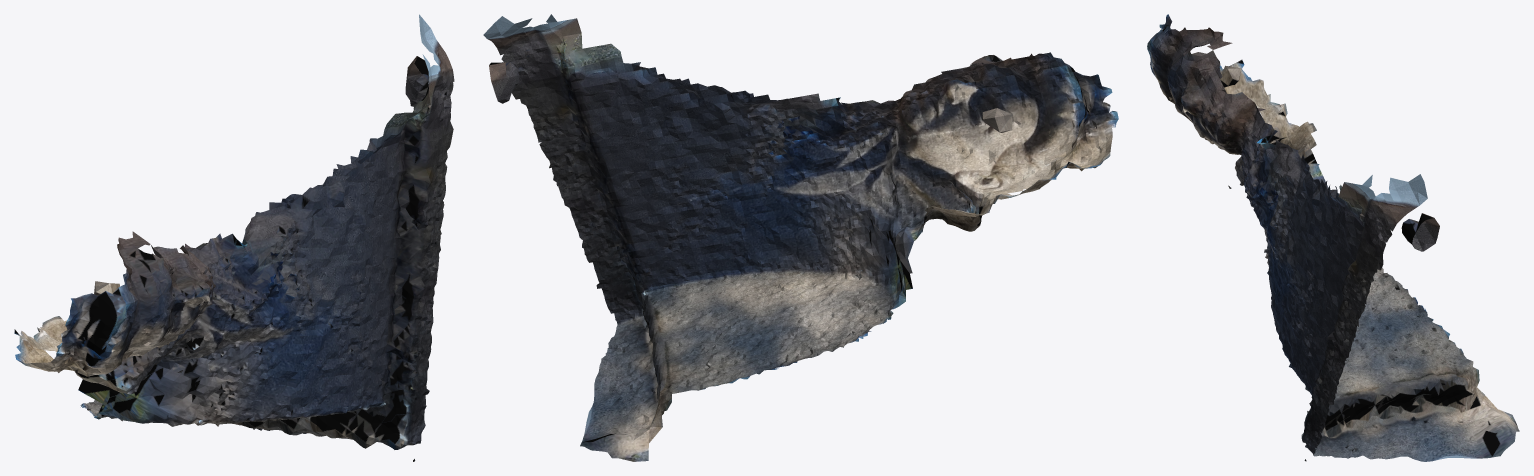
Rendered from ozheshko.obj.
3 renders of one model, left to right at view 1: azimuth 30°, elevation 25°; view 2: azimuth 150°, elevation 25°; view 3: azimuth 270°, elevation 25°, orthographic. The views are drawn at different scales.
Bounding box in the file's own units: 4.36 × 3.05 × 3.06.
Materials: 1 (1 with a texture image).
